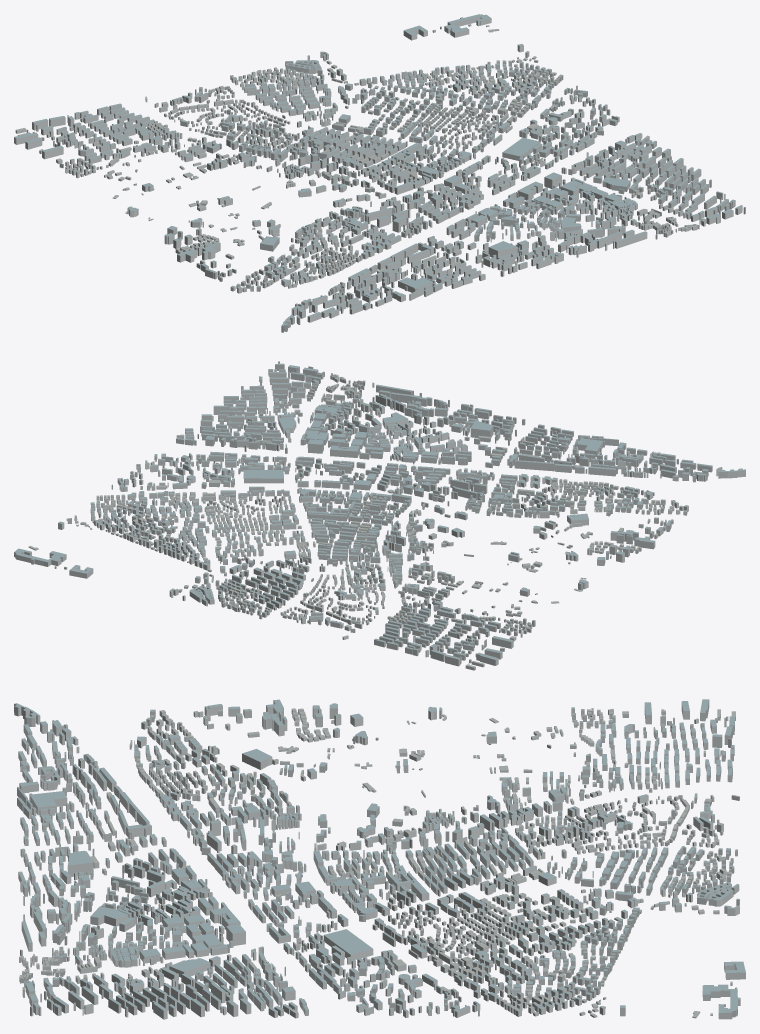
File: far.glb
The picture shows the model from 3 angles, top to bottom: view 1: azimuth 30°, elevation 25°; view 2: azimuth 150°, elevation 25°; view 3: azimuth 270°, elevation 25°; orthographic projection. The views are drawn at different scales.
Size of the model in its own units: 2154 by 43.23 by 2134.
